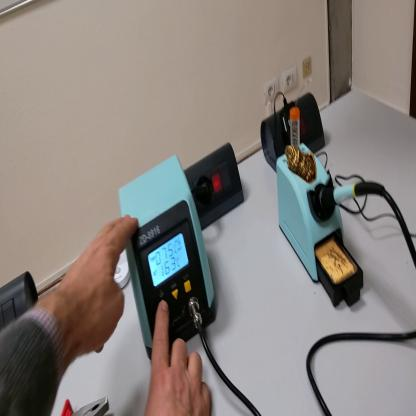hand: (60, 214, 138, 360), (145, 300, 214, 416)
pliers: (62, 393, 112, 415)
socket: (259, 93, 327, 174), (184, 139, 243, 231)
welder base: (273, 102, 368, 314)
welder probe tip: (320, 174, 389, 213)
welder station: (121, 157, 219, 364)
